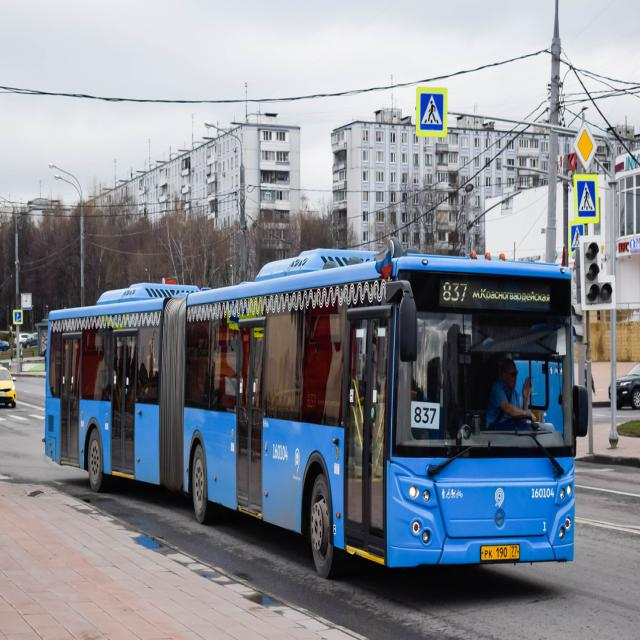number-of-bus: (413, 402, 440, 428), (444, 280, 469, 305)
